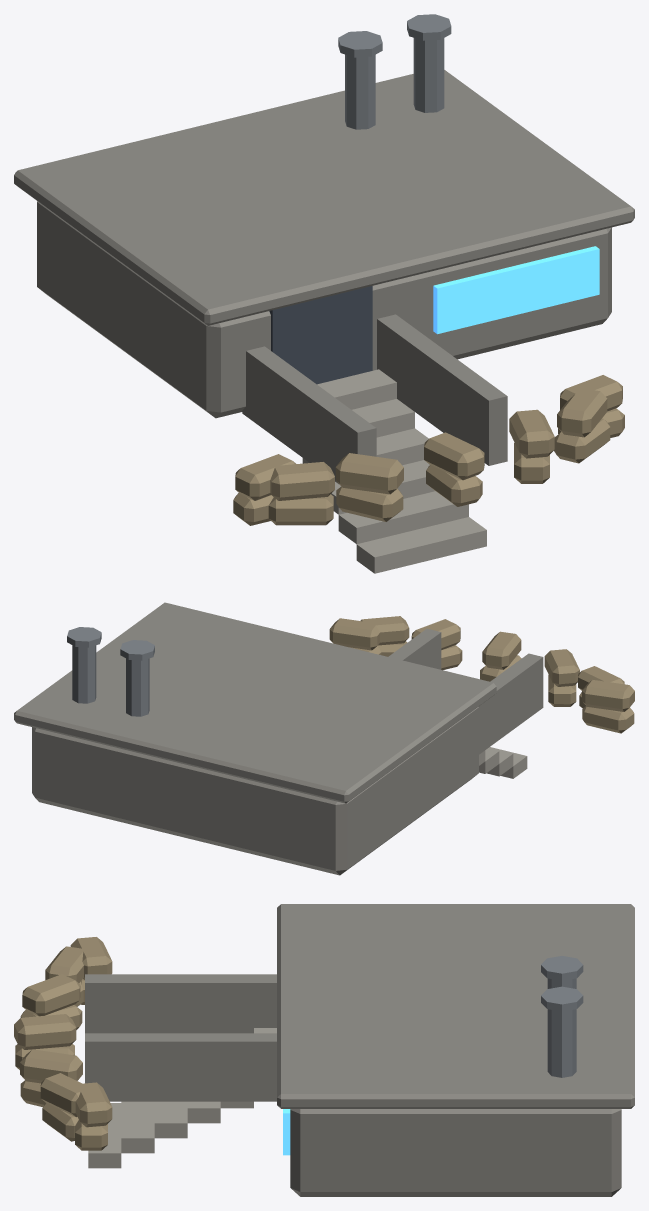
Rendered from shelter.glb.
3 views of the same model, one above another, from view 1: azimuth 30°, elevation 25°; view 2: azimuth 150°, elevation 25°; view 3: azimuth 270°, elevation 25° (orthographic). The views are drawn at different scales.
Parts seen in each view (by area): view 1: shelter; view 2: shelter; view 3: shelter.
Part boxes in pixels (left/top/right/bottom): shelter: left=14, top=14, right=634, bottom=573; shelter: left=14, top=602, right=634, bottom=875; shelter: left=14, top=904, right=634, bottom=1196.
Bounding box in the file's own units: 8.02 × 4.37 × 9.37.
